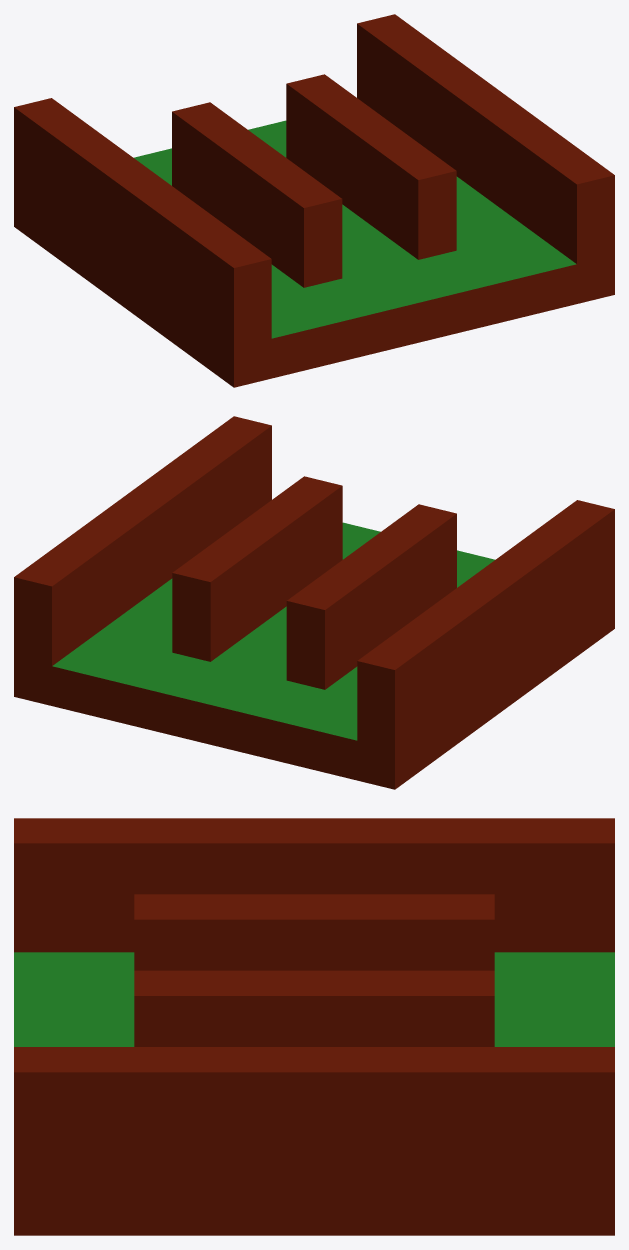
The model's file is Straight2Pins.obj.
3 views of the same model, one above another, from view 1: azimuth 30°, elevation 25°; view 2: azimuth 150°, elevation 25°; view 3: azimuth 270°, elevation 25° (orthographic). The views are drawn at different scales.
Parts seen in each view (by area): view 1: Straight2Pins; view 2: Straight2Pins; view 3: Straight2Pins.
Boxes of the visible parts, x1=… form: Straight2Pins: x1=14, y1=14, x2=614, y2=387; Straight2Pins: x1=14, y1=416, x2=614, y2=789; Straight2Pins: x1=14, y1=818, x2=614, y2=1235.
Size of the model in its own units: 2 by 0.6 by 2.
